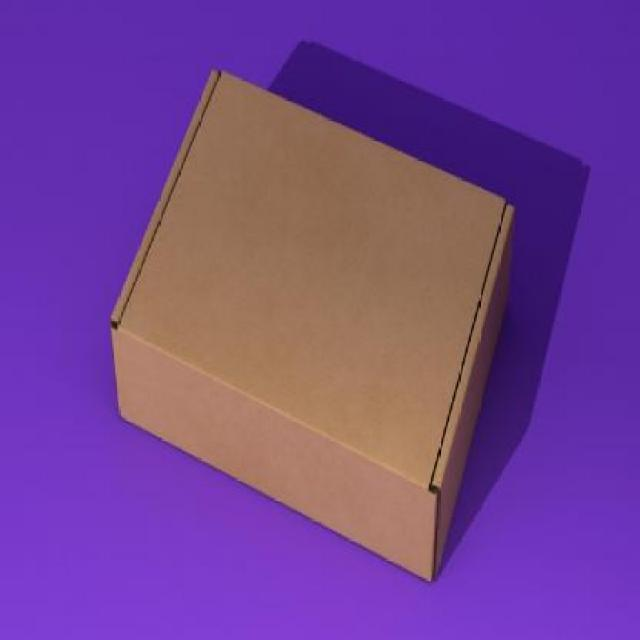box: (107, 68, 511, 585)
